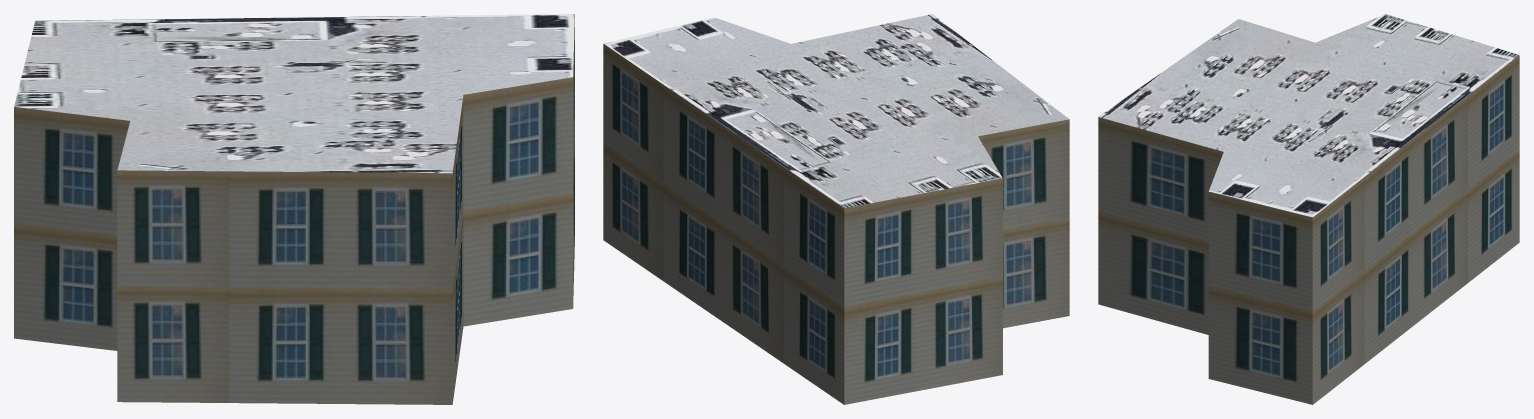
Rendered from ResTex__625.fbx.
3 renders of one model, left to right at view 1: azimuth 30°, elevation 25°; view 2: azimuth 150°, elevation 25°; view 3: azimuth 270°, elevation 25°, orthographic. The views are drawn at different scales.
Parts seen in each view (by area): view 1: CityEngineMaterial_7_m, CityEngineMaterial_m; view 2: CityEngineMaterial_7_m, CityEngineMaterial_m; view 3: CityEngineMaterial_7_m, CityEngineMaterial_m.
Boxes of the visible parts, x1,y1,x2,y2 form: CityEngineMaterial_7_m: [14, 15, 574, 404]; CityEngineMaterial_m: [14, 14, 574, 173]; CityEngineMaterial_7_m: [603, 44, 1069, 404]; CityEngineMaterial_m: [604, 14, 1068, 208]; CityEngineMaterial_7_m: [1098, 55, 1519, 404]; CityEngineMaterial_m: [1098, 14, 1519, 217].
Size of the model in its own units: 13.97 by 6 by 12.23.
2 materials, 2 textured.
